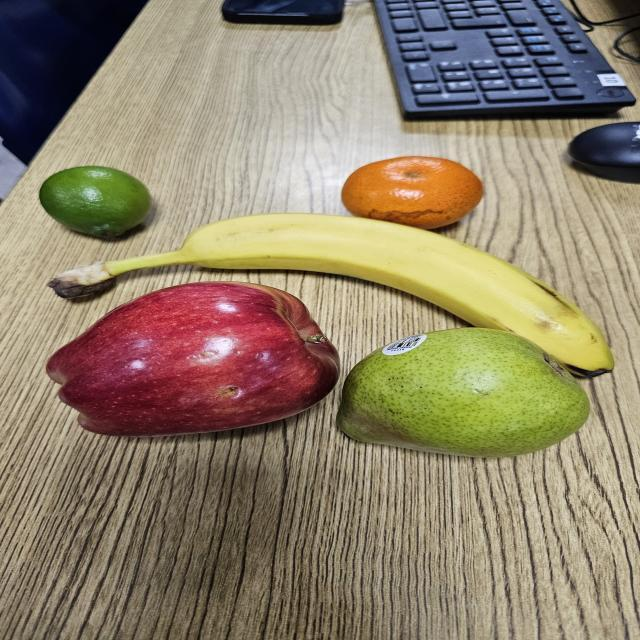Apel Gala: (24, 151, 174, 245)
Apel Granny Smith: (344, 154, 503, 233)
Lemon: (314, 315, 604, 478)
Persik: (11, 213, 640, 384)
Pisang: (24, 276, 358, 462)
